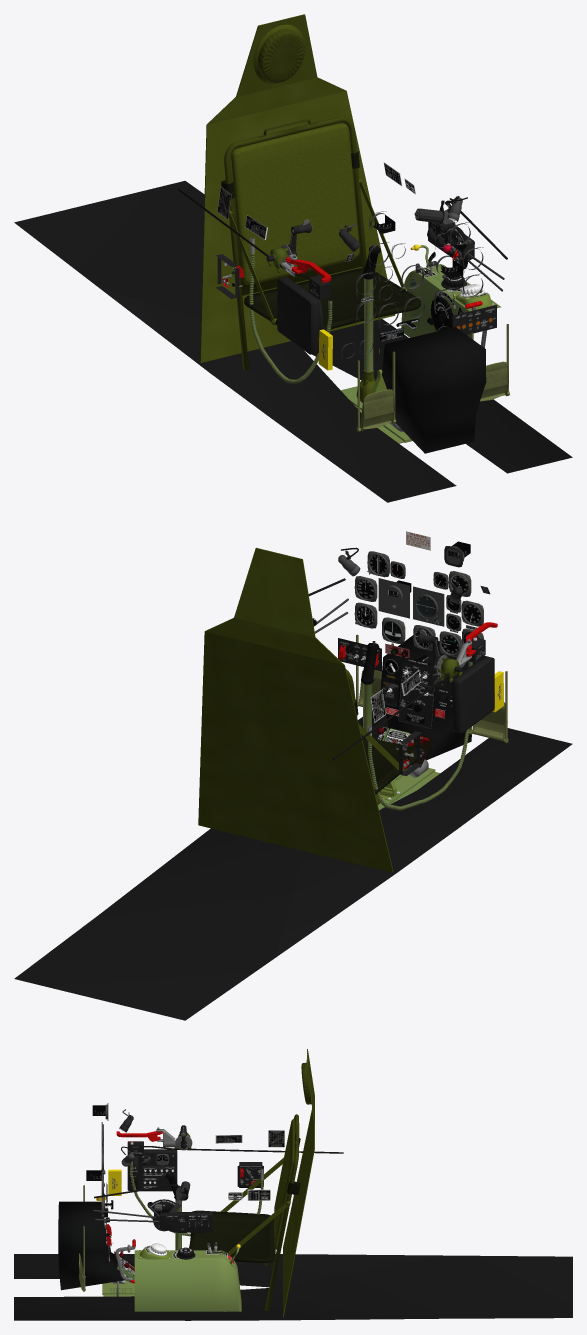
File: p51d_cockpit.glb
3 renders of one model, top to bottom at view 1: azimuth 30°, elevation 25°; view 2: azimuth 150°, elevation 25°; view 3: azimuth 270°, elevation 25°, orthographic. The views are drawn at different scales.
Parts seen in each view (by area): view 1: cockpit; view 2: cockpit; view 3: cockpit.
Boxes of the visible parts, x1=… form: cockpit: x1=14, y1=14, x2=572, y2=502; cockpit: x1=14, y1=531, x2=572, y2=1020; cockpit: x1=14, y1=1049, x2=572, y2=1320.
Size of the model in its own units: 0.7902 by 1.21 by 2.59.
Materials: 9 (9 with a texture image).
